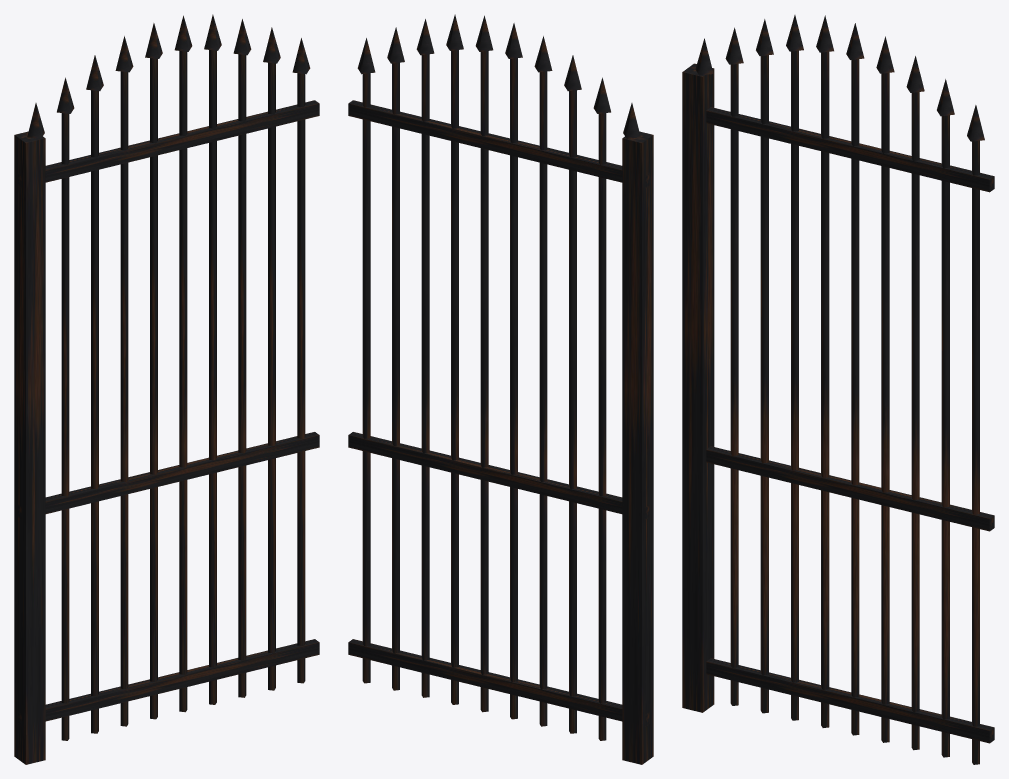
File: maus_gate.glb
The picture shows the model from 3 angles, left to right: view 1: azimuth 30°, elevation 25°; view 2: azimuth 150°, elevation 25°; view 3: azimuth 330°, elevation 25°; orthographic projection. The views are drawn at different scales.
Parts seen in each view (by area): view 1: maus_gate; view 2: maus_gate; view 3: maus_gate.
Part boxes in pixels (x1=…): maus_gate: x1=14, y1=14, x2=319, y2=764; maus_gate: x1=348, y1=14, x2=653, y2=764; maus_gate: x1=682, y1=15, x2=994, y2=764.
Size of the model in its own units: 1.5 by 3.41 by 0.1.
1 material, 1 textured.
